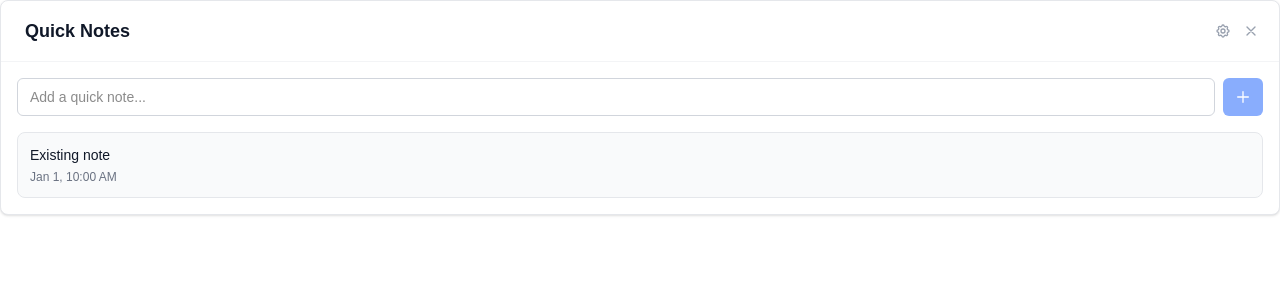
Test: QuickNotesWidget › note ordering › should add new notes to the top of the list
Expected: the text "Existing note" is shown, [30,147,110,163]
Type "New note" into the field with placeholder "Add a quick note..." at (616, 97), box [17,78,1215,116]
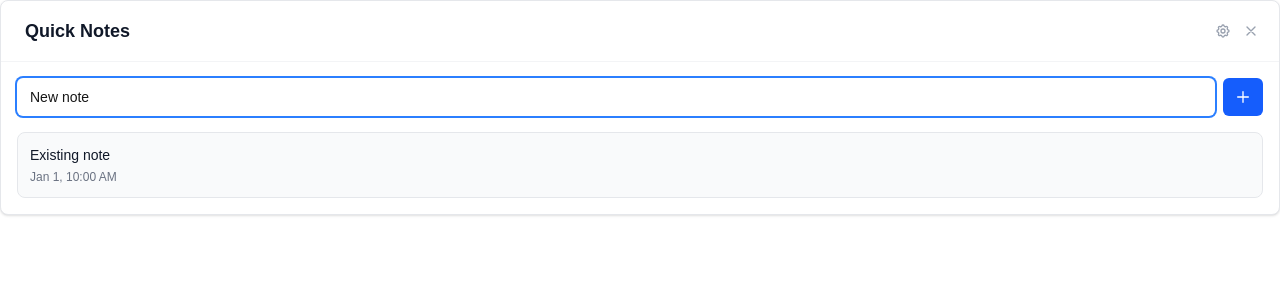
Press Enter
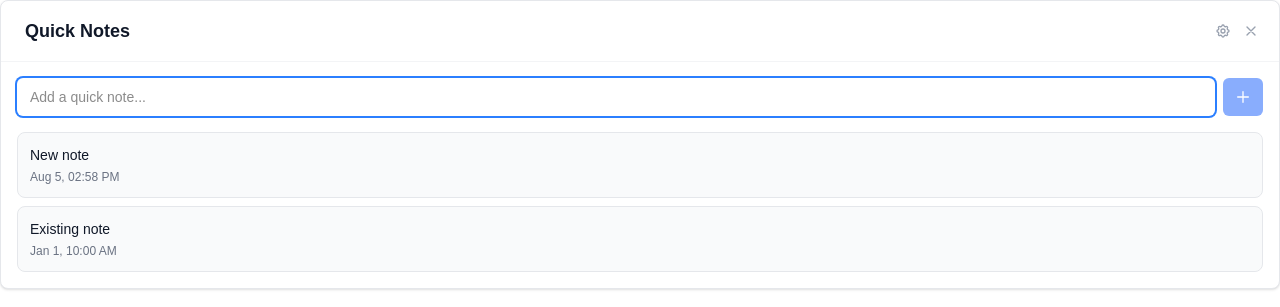
Expected: the text "Existing note" is shown, [30,221,110,237]
Expected: the text "New note" is shown, [30,147,89,163]
